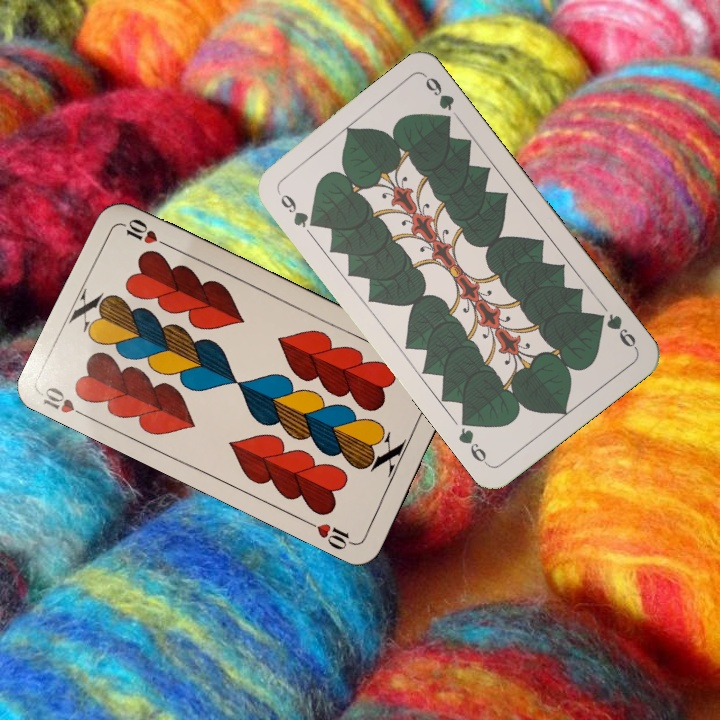G9: (591, 309, 640, 352), (276, 190, 321, 230)
H10: (38, 383, 93, 422)
